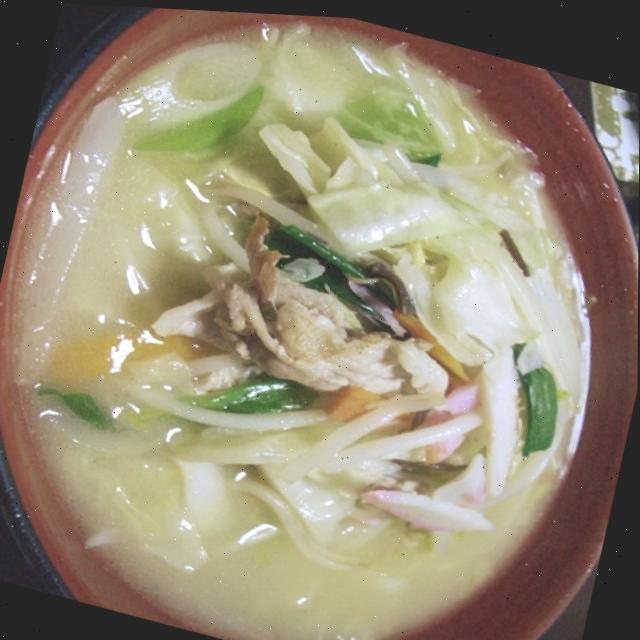鸡蛋料理: (118, 30, 640, 555)
